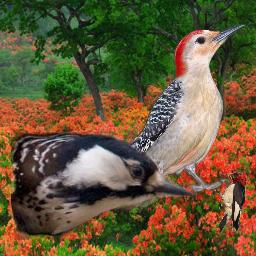Woodpecker: (60, 20, 250, 194), (11, 124, 197, 240), (214, 172, 247, 235)
